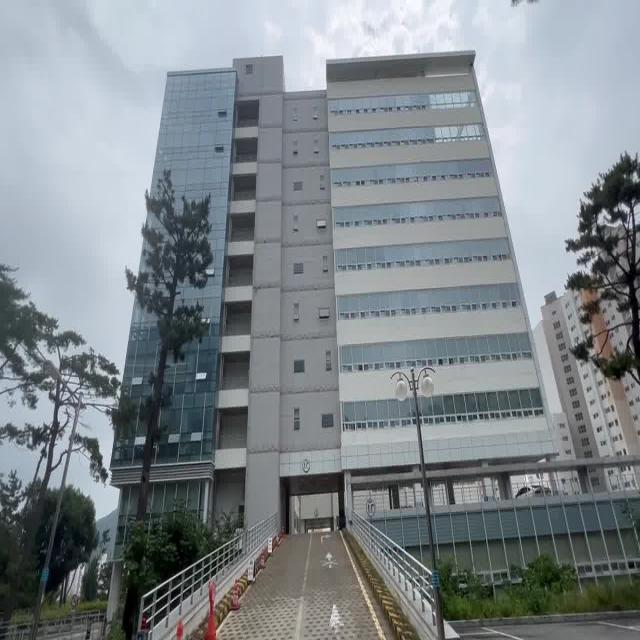building: (222, 37, 540, 460)
